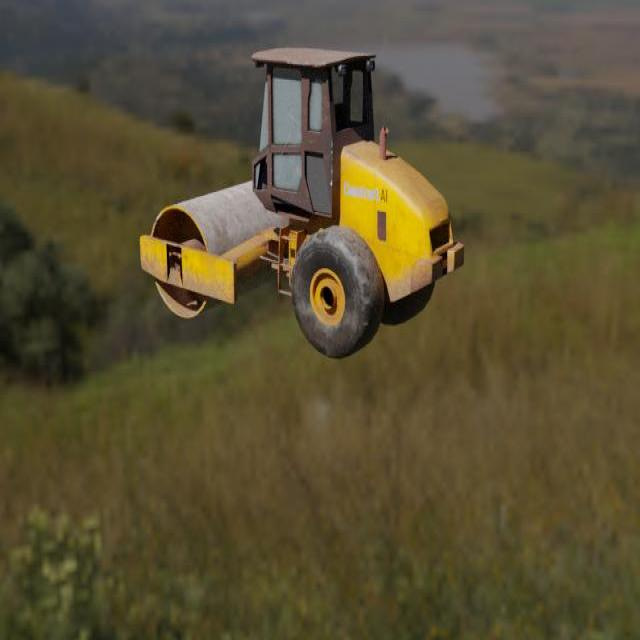Roller: (139, 46, 464, 358)
